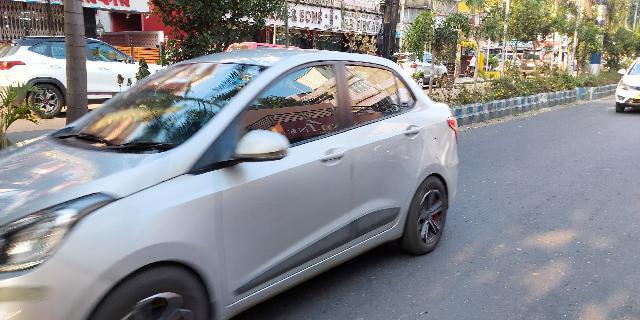Car: (1, 41, 466, 320), (616, 53, 640, 110)
